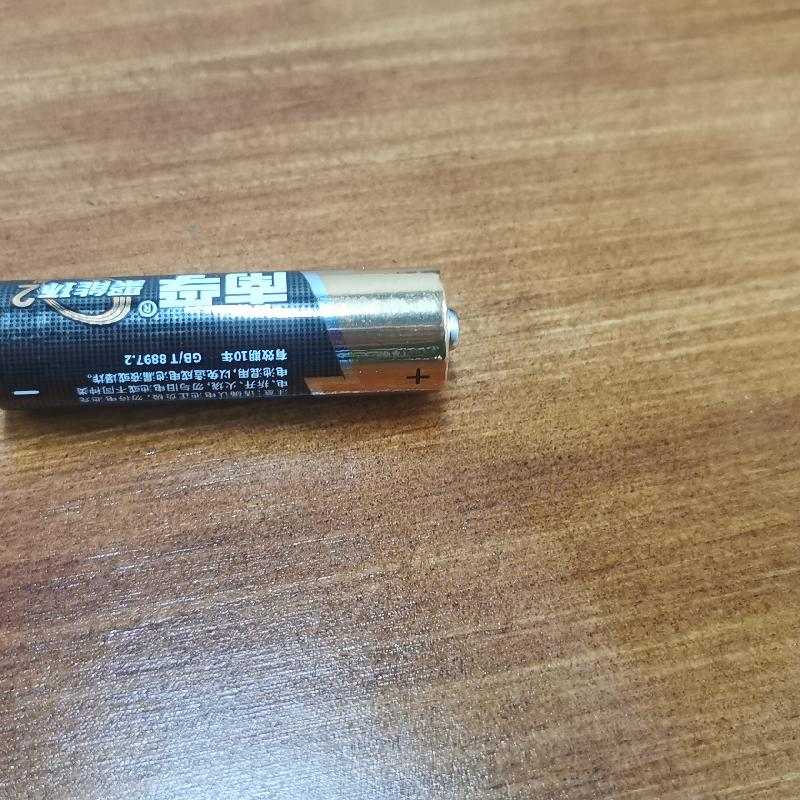battery: (3, 259, 465, 427)
